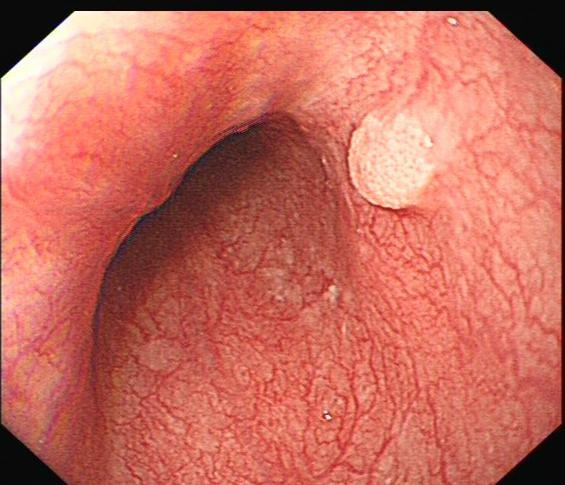Polyp: (333, 102, 445, 216)
